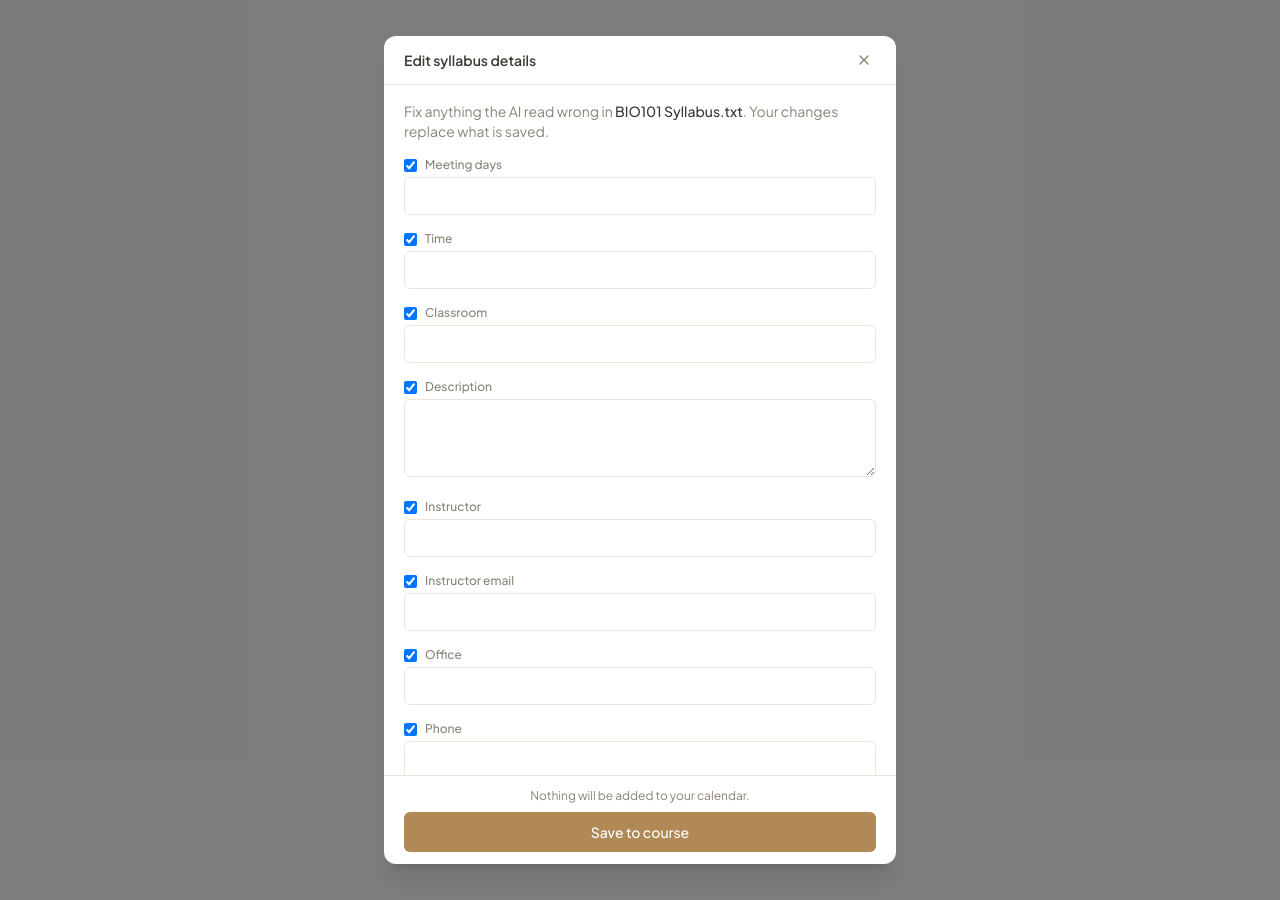
Test case: SyllabusModal (edit mode) › shows an error and stays open when saving fails
Click the button "Save to course" at (640, 832), box [404,812,876,852]
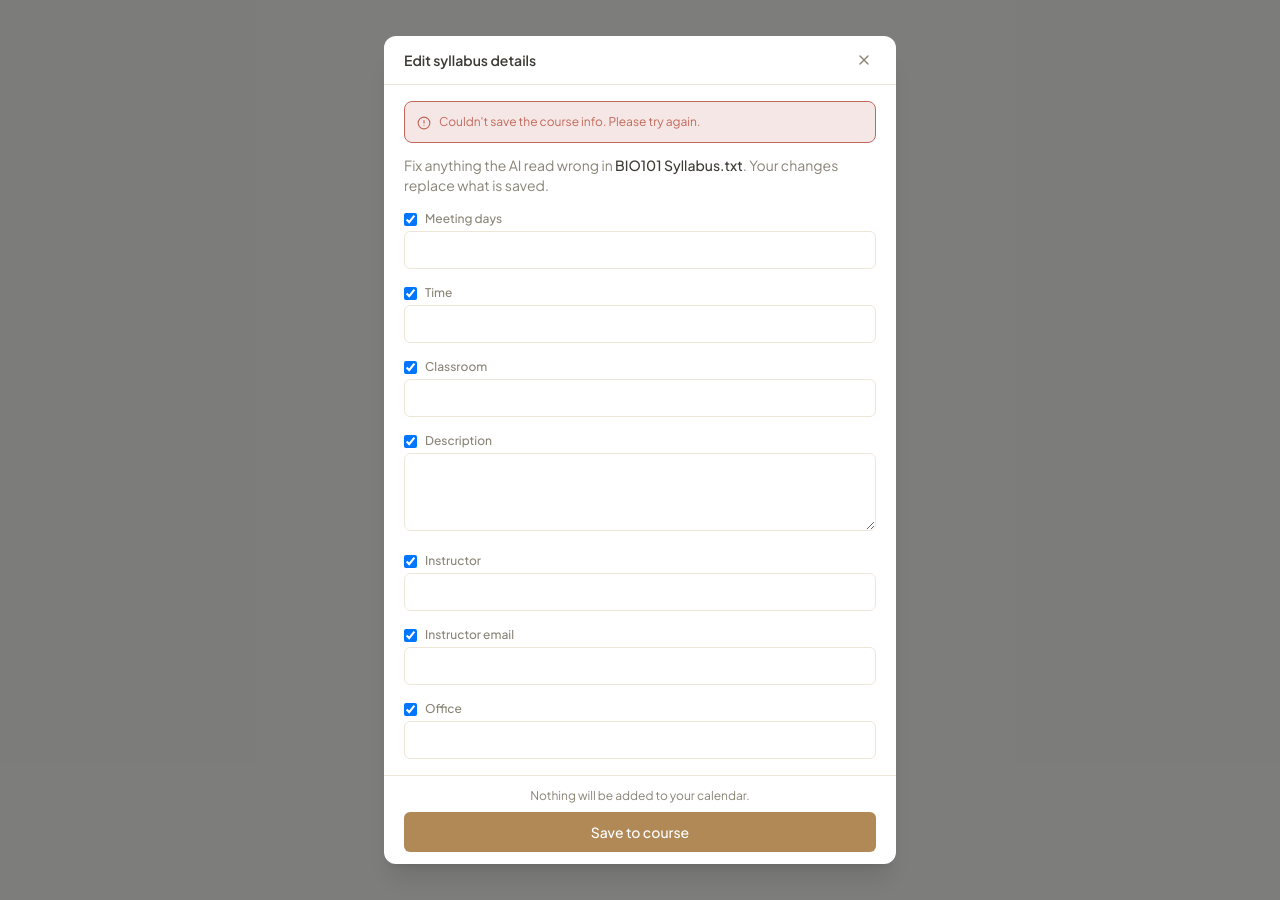
Result: the text "Couldn't save the course info. Please try again." is shown at [404,101,876,143]
